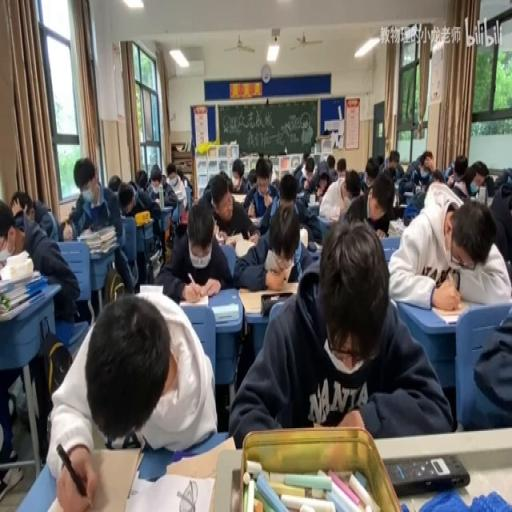calculator: (125, 469, 214, 512), (164, 434, 234, 480), (239, 283, 298, 313), (0, 292, 42, 320), (0, 268, 41, 292), (430, 304, 466, 324), (212, 302, 238, 322), (234, 236, 257, 258), (379, 235, 400, 259), (177, 292, 208, 307), (138, 283, 164, 296), (150, 248, 162, 270), (388, 218, 404, 234), (230, 192, 248, 205), (212, 222, 222, 243), (222, 232, 237, 246), (319, 213, 339, 222), (307, 200, 319, 214), (310, 240, 322, 252), (0, 248, 9, 263), (250, 214, 262, 224), (486, 194, 493, 208), (403, 191, 415, 199), (414, 184, 422, 194)
paper: (226, 212, 444, 445), (48, 286, 218, 508), (0, 193, 76, 478), (387, 182, 509, 309), (67, 156, 133, 296), (160, 196, 231, 303), (471, 299, 512, 425), (358, 171, 396, 240), (242, 158, 278, 229), (318, 161, 358, 219), (401, 148, 434, 200), (0, 196, 22, 258), (164, 161, 187, 213), (297, 155, 323, 196), (146, 161, 168, 202), (445, 152, 470, 186), (228, 156, 249, 195), (278, 170, 298, 204), (382, 150, 404, 180), (205, 169, 230, 195), (117, 186, 134, 215), (57, 214, 75, 240), (493, 169, 512, 192), (364, 156, 378, 182), (134, 168, 148, 190), (107, 172, 122, 192), (482, 175, 494, 196), (430, 168, 446, 182), (15, 202, 29, 218), (336, 158, 346, 180), (247, 168, 258, 186), (270, 175, 280, 192), (326, 154, 334, 172), (421, 155, 431, 169), (182, 175, 191, 189), (166, 168, 175, 182), (376, 155, 384, 169), (301, 151, 308, 165), (160, 174, 166, 188)
person: (386, 452, 470, 495), (394, 202, 406, 219)
